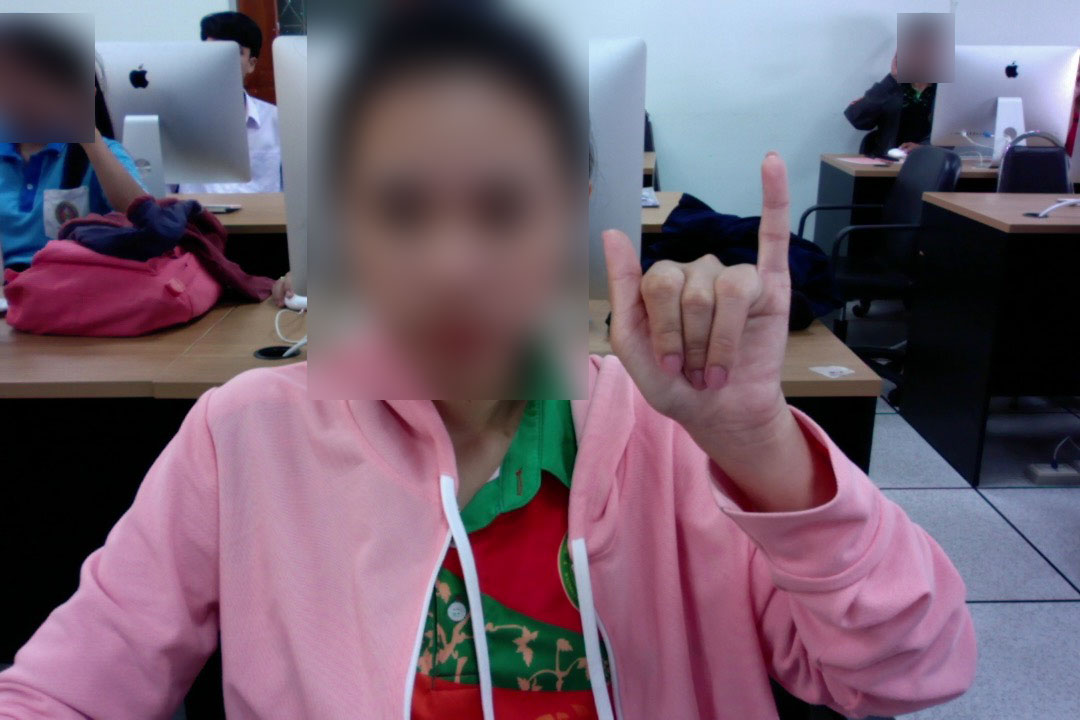yor: (589, 143, 806, 432)
